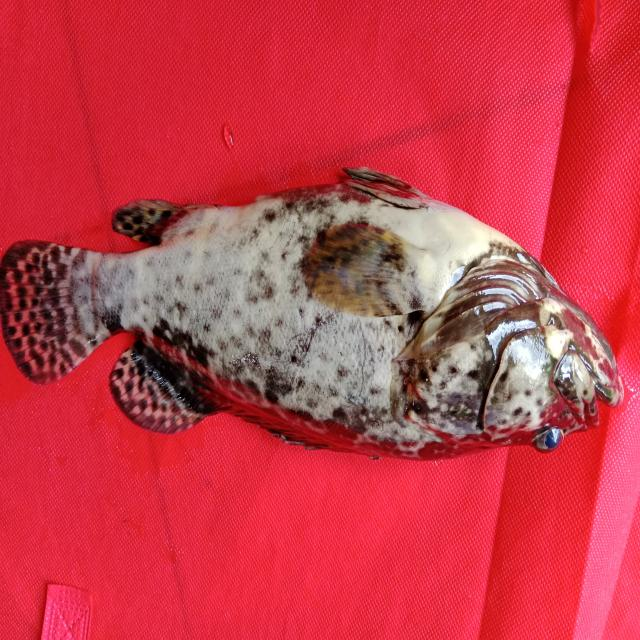ikan: (25, 157, 628, 474)
